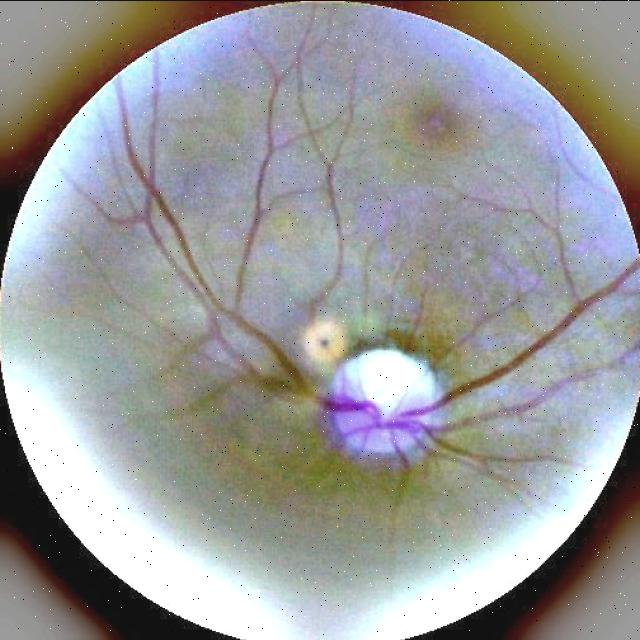Macula: (390, 79, 478, 168)
Nerves: (127, 166, 639, 507)
Optic Disk: (311, 307, 460, 504)
